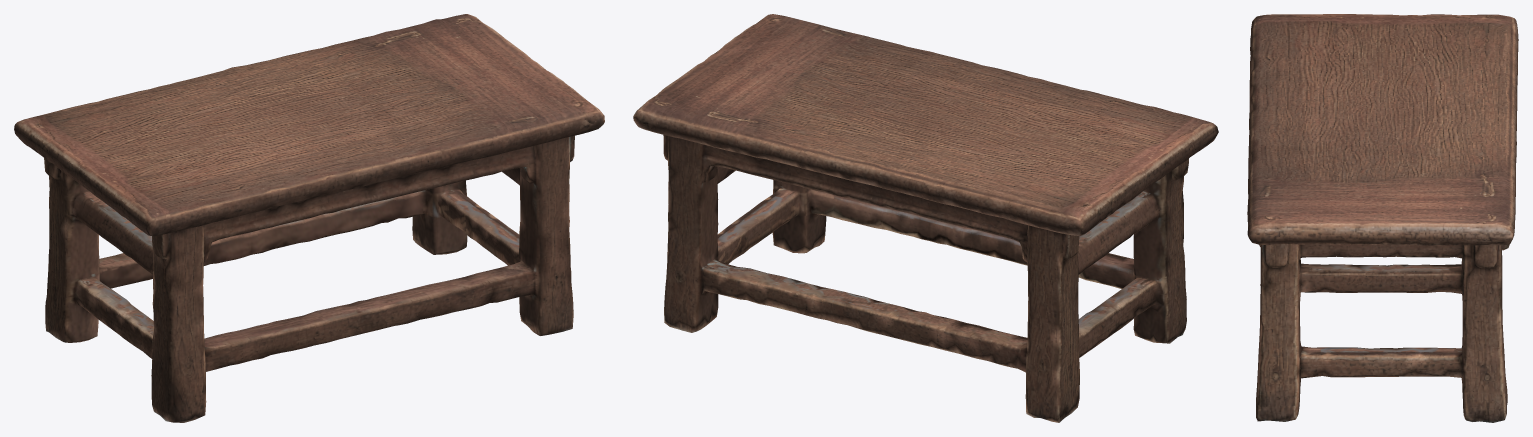
File: FieldTable.fbx
The picture shows the model from 3 angles, left to right: view 1: azimuth 30°, elevation 25°; view 2: azimuth 150°, elevation 25°; view 3: azimuth 270°, elevation 25°; orthographic projection. The views are drawn at different scales.
Parts seen in each view (by area): view 1: FieldTable.001; view 2: FieldTable.001; view 3: FieldTable.001.
Part boxes in pixels (x1=…): FieldTable.001: x1=14, y1=14, x2=604, y2=422; FieldTable.001: x1=633, y1=14, x2=1218, y2=422; FieldTable.001: x1=1247, y1=14, x2=1518, y2=422.
Size of the model in its own units: 187 by 84.54 by 99.42.
Materials: 1 (1 with a texture image).
